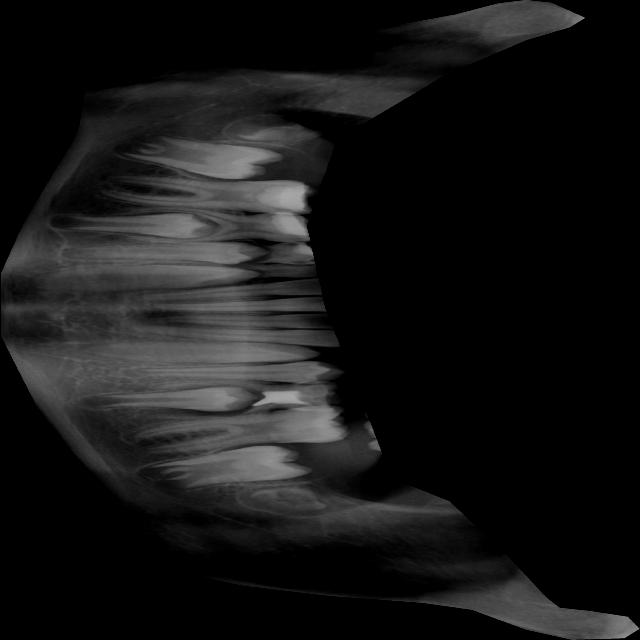mandibula: (0, 0, 639, 640)
